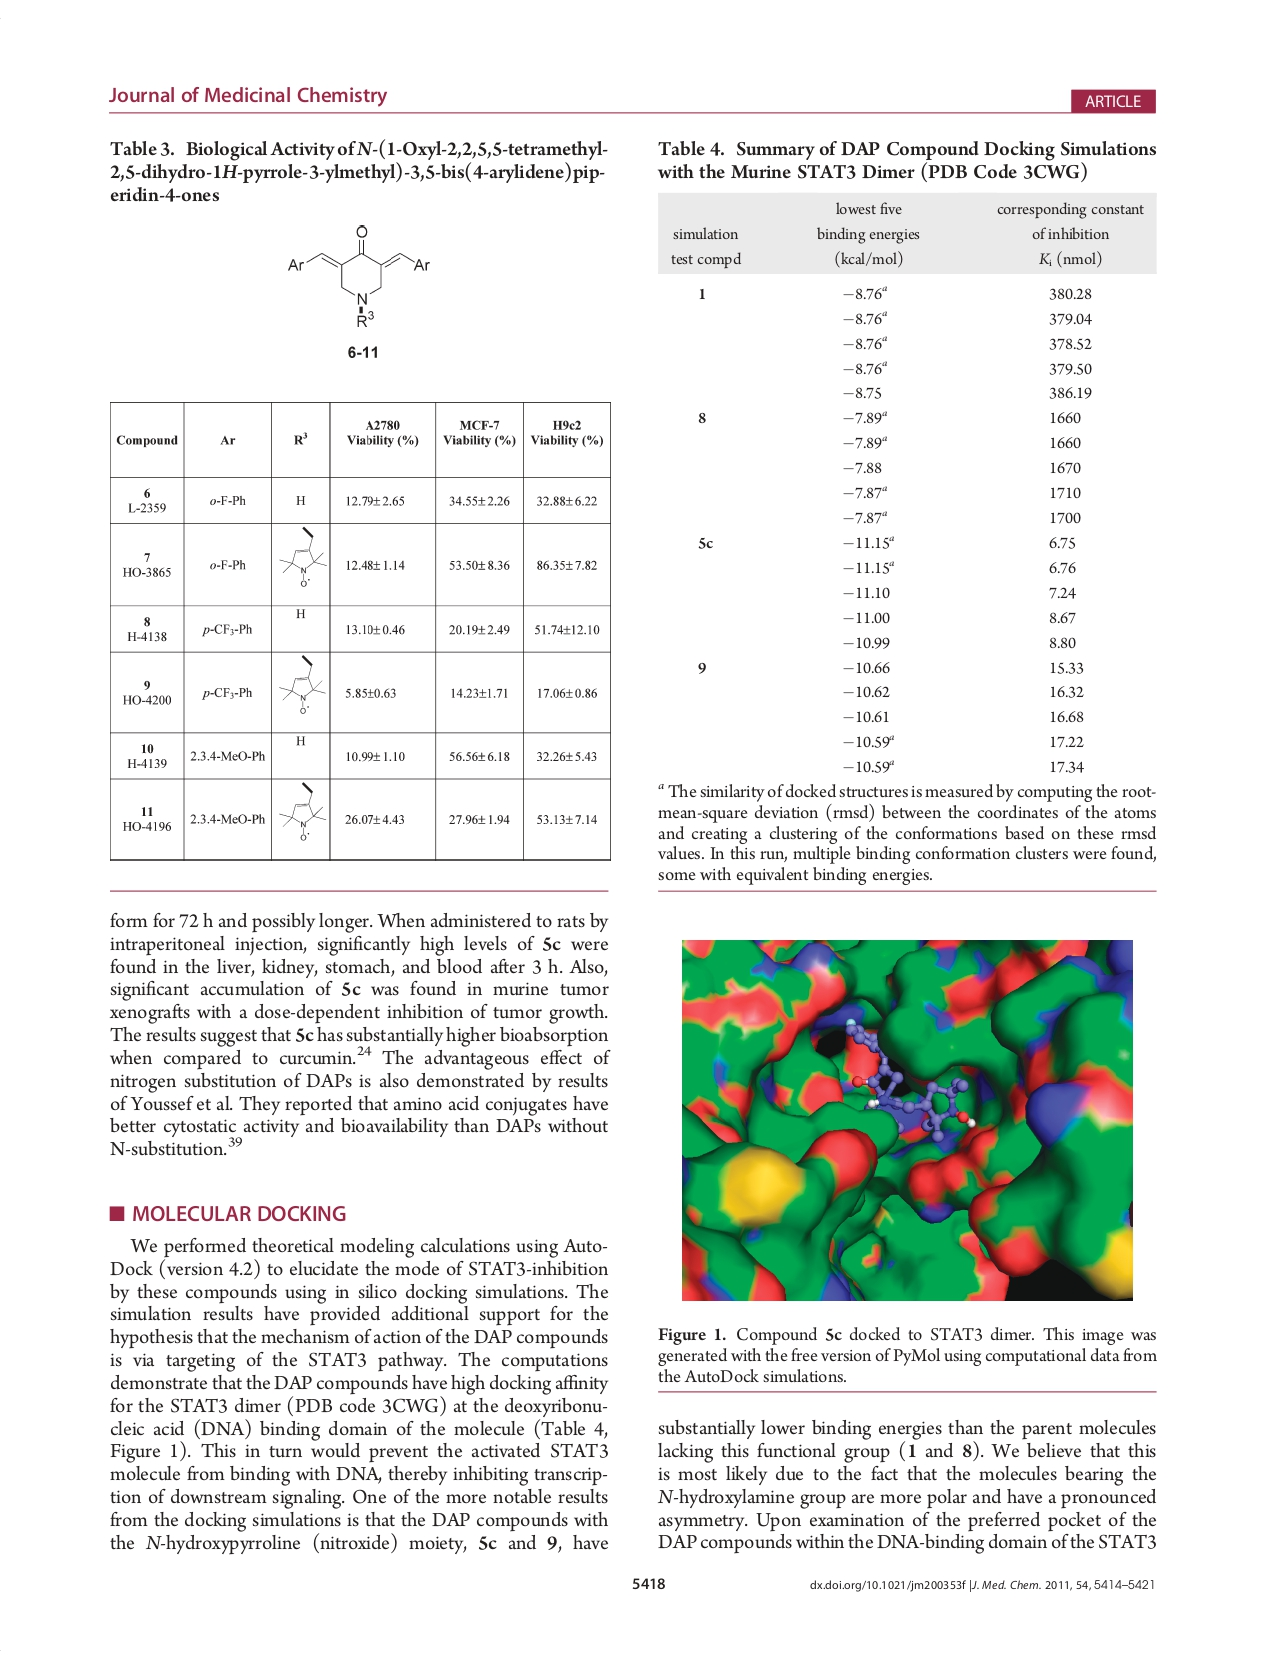exist_molecular: (285, 221, 434, 330), (277, 527, 328, 589), (275, 782, 327, 844), (277, 654, 326, 718)
